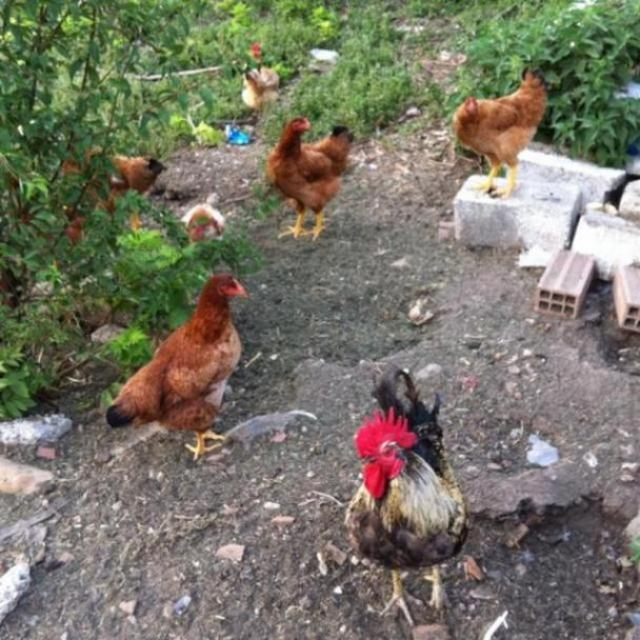Chicken: (347, 368, 471, 628), (118, 263, 258, 465), (452, 62, 550, 200), (267, 118, 357, 239), (179, 191, 227, 245), (243, 43, 278, 113)
